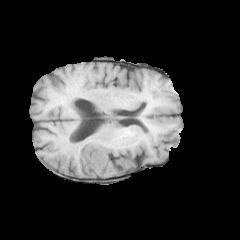glioma: (80, 137, 140, 175)
